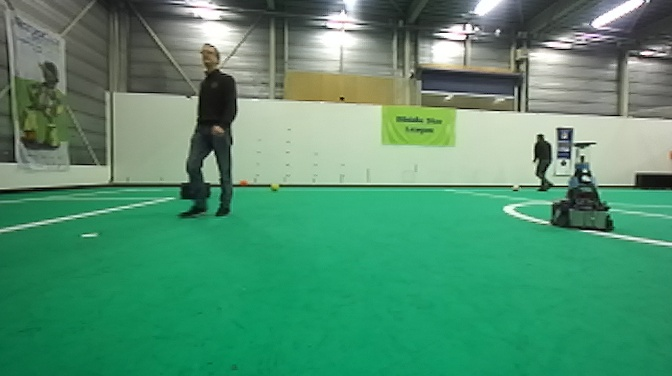ball: (267, 178, 281, 194), (235, 177, 250, 190), (510, 182, 522, 194)
human: (176, 42, 239, 220), (530, 132, 555, 192)
robot: (549, 139, 616, 232)
